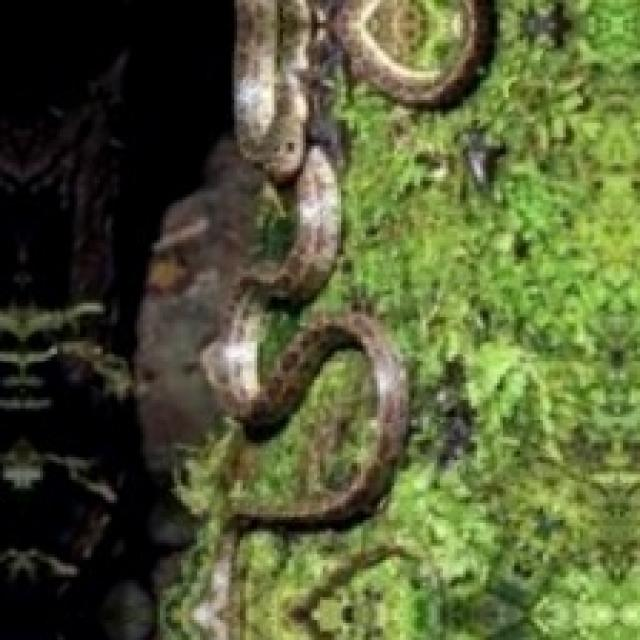mullers wolf snake: (200, 0, 494, 534)
